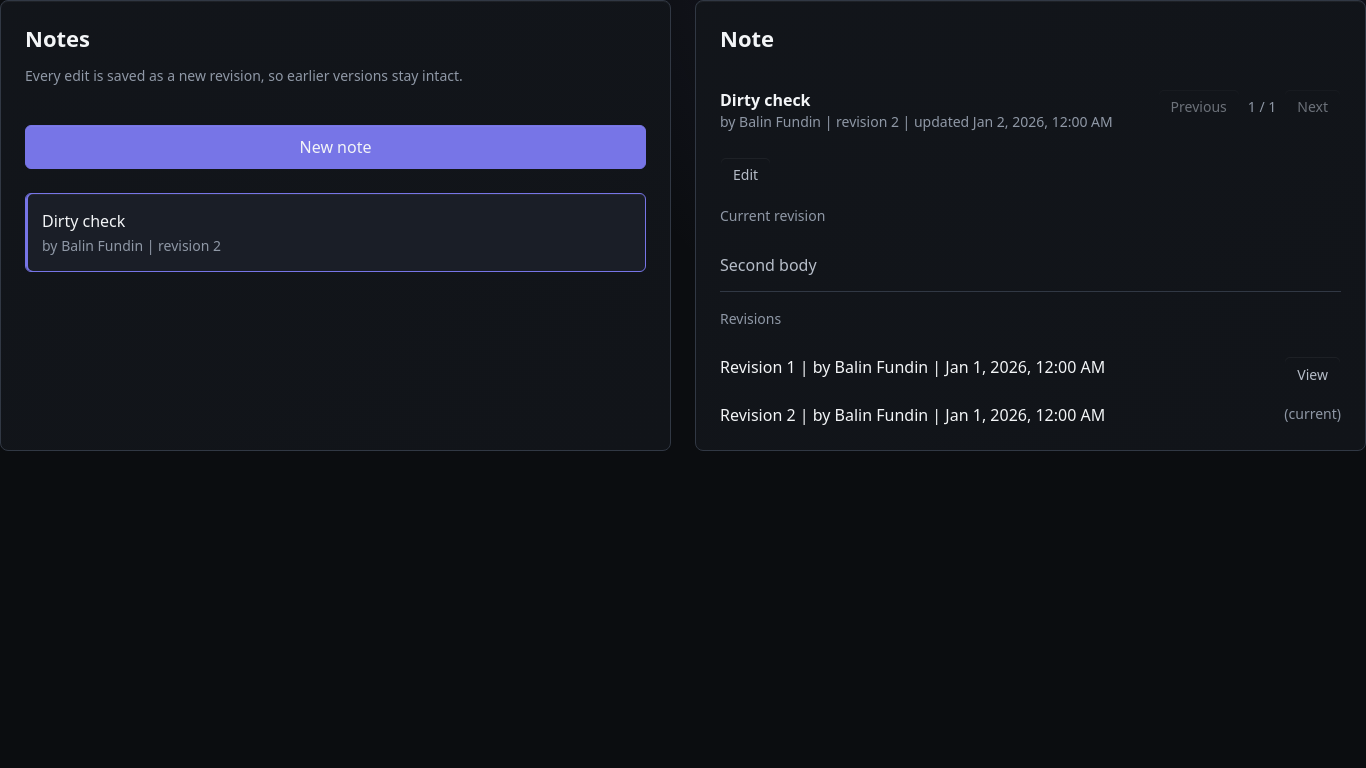
Test case: NotesPanel › revision dirty check › keeps Save new revision disabled with a hint until the text differs
Click the button with aria-label "Edit note" at {"x": 746, "y": 175}, box [720,157,771,193]
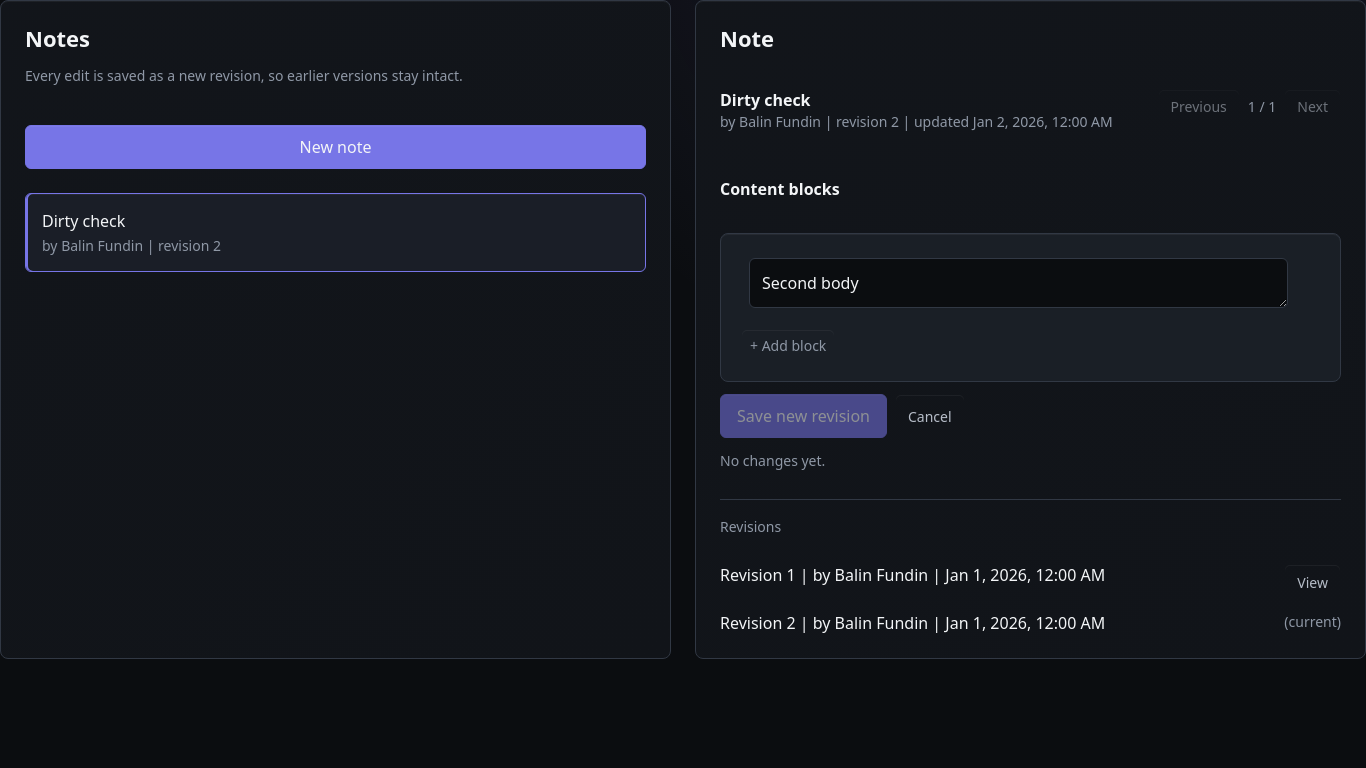
Now the button "Save new revision" is disabled, box [720,394,887,438]
Now the text "No changes yet." is shown, box [720,451,825,470]
Replace the text in the text box showing "Second body" with "Second body, revised" at {"x": 1018, "y": 283}, box [749,258,1288,308]
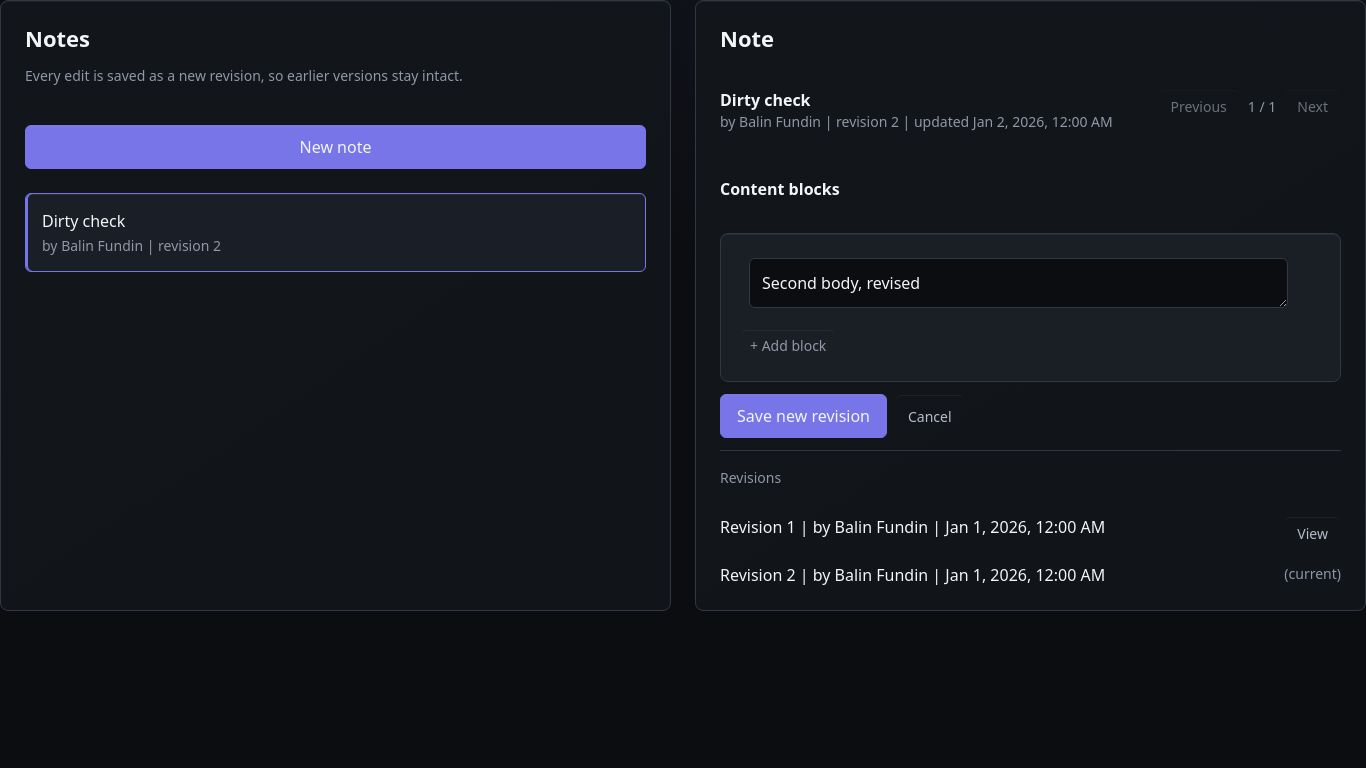
Now the button "Save new revision" is enabled, box [720,394,887,438]
Now the text "No changes yet." is gone
